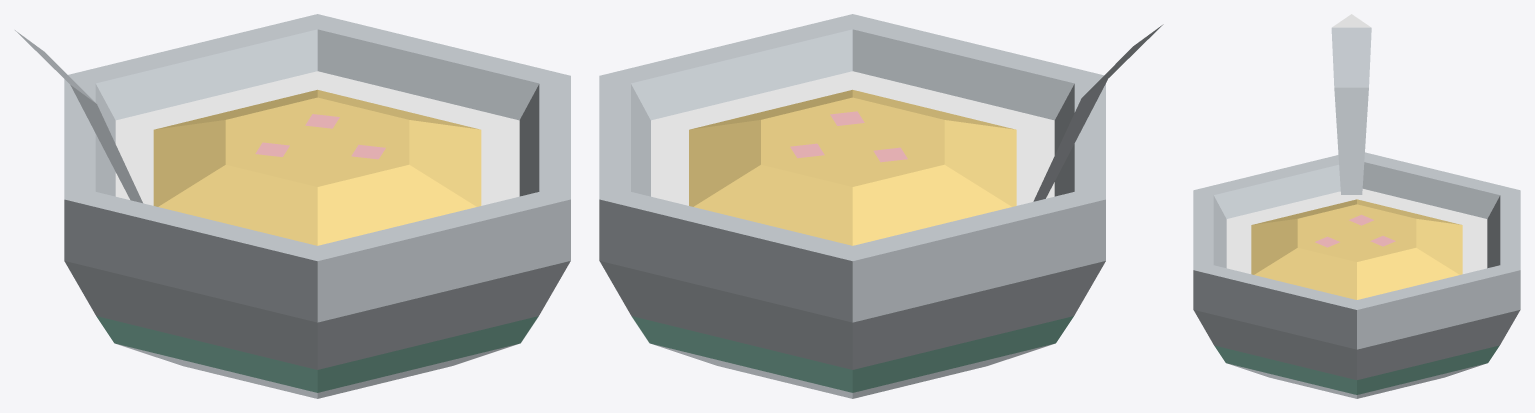
Rendered from asset.glb.
The picture shows the model from 3 angles, left to right: view 1: azimuth 30°, elevation 25°; view 2: azimuth 150°, elevation 25°; view 3: azimuth 270°, elevation 25°; orthographic projection. The views are drawn at different scales.
Parts seen in each view (by area): view 1: Daal; view 2: Daal; view 3: Daal.
Boxes of the visible parts, bbox=[...] form: Daal: bbox=[15, 14, 570, 398]; Daal: bbox=[599, 14, 1163, 398]; Daal: bbox=[1193, 14, 1520, 398].
Size of the model in its own units: 63.46 by 41.93 by 50.22.
